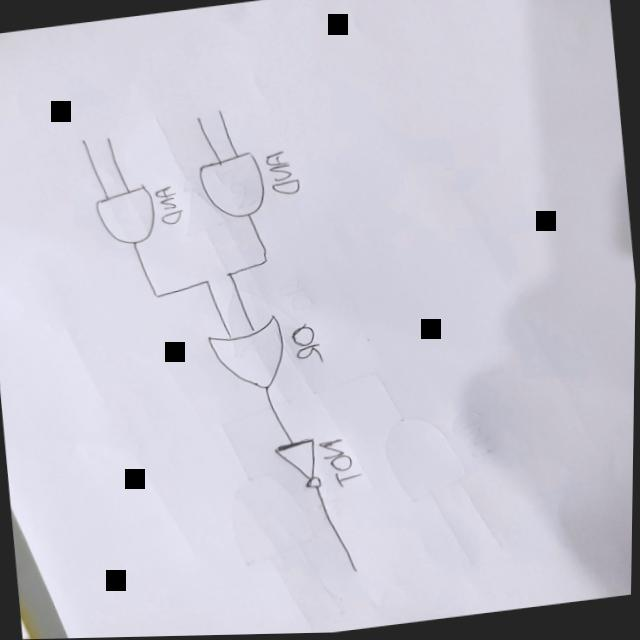junction: (150, 289, 166, 301), (223, 269, 237, 278), (258, 257, 271, 266), (203, 276, 214, 285)
terminal: (350, 565, 363, 574), (77, 135, 88, 144), (193, 114, 204, 123), (213, 107, 224, 116), (103, 135, 112, 142)
text: (317, 434, 364, 490), (262, 144, 305, 199), (287, 322, 324, 367), (151, 182, 186, 229)
